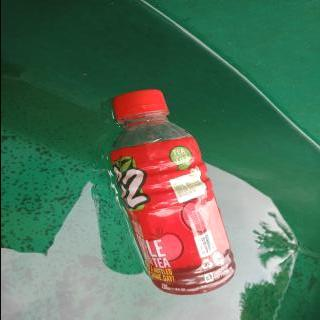bottle: (109, 87, 234, 296)
